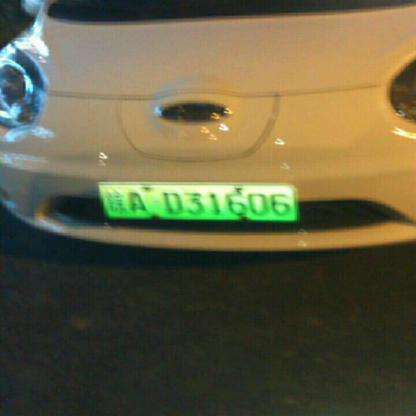lp: (98, 185, 296, 221)
